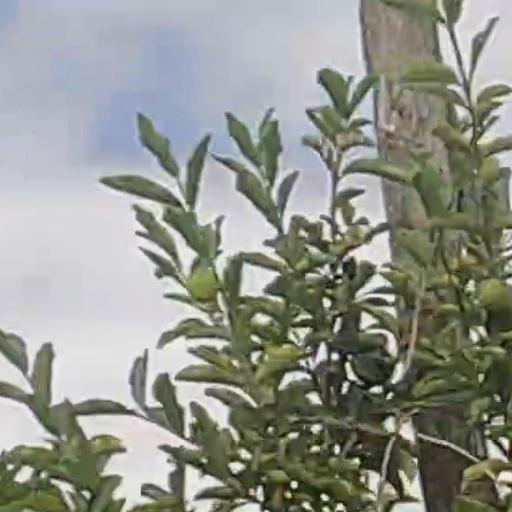acerola_verde: (479, 278, 512, 310), (186, 269, 216, 297)
